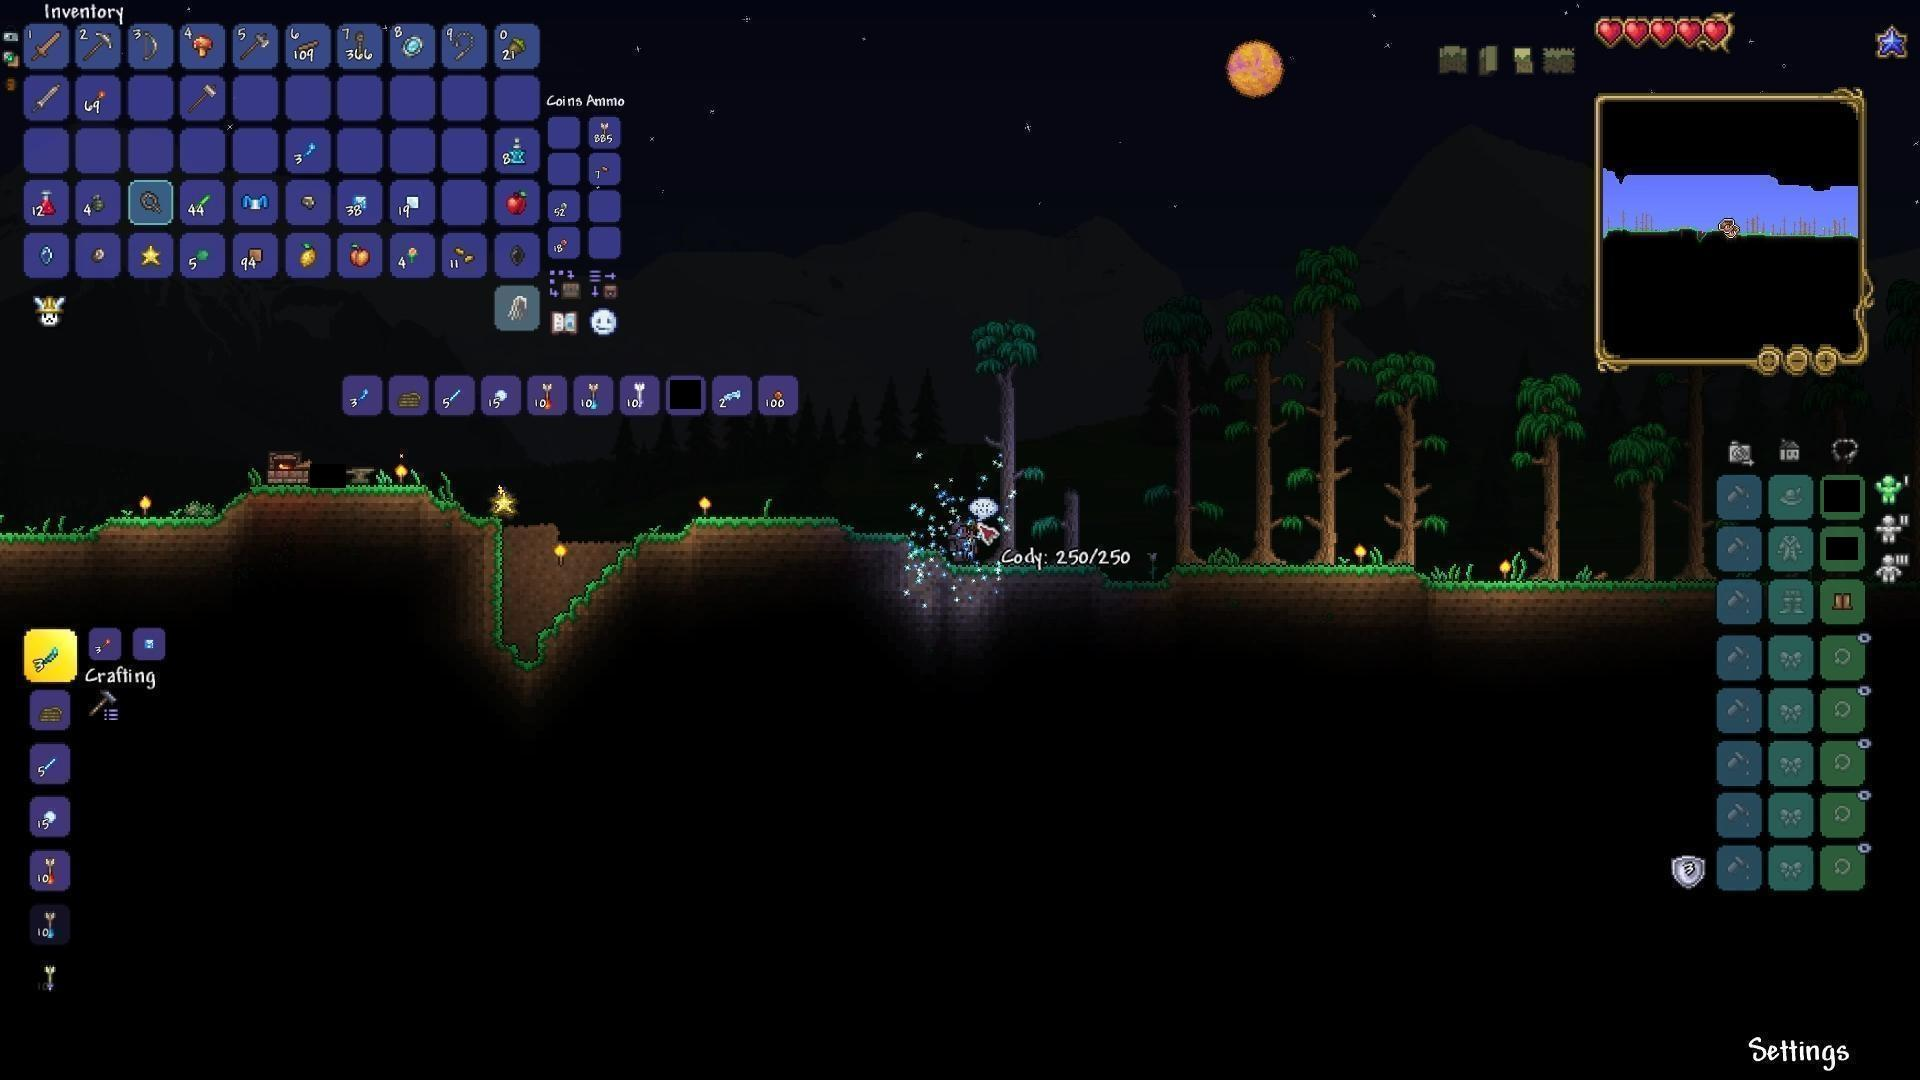legs: (1830, 588, 1855, 617)
